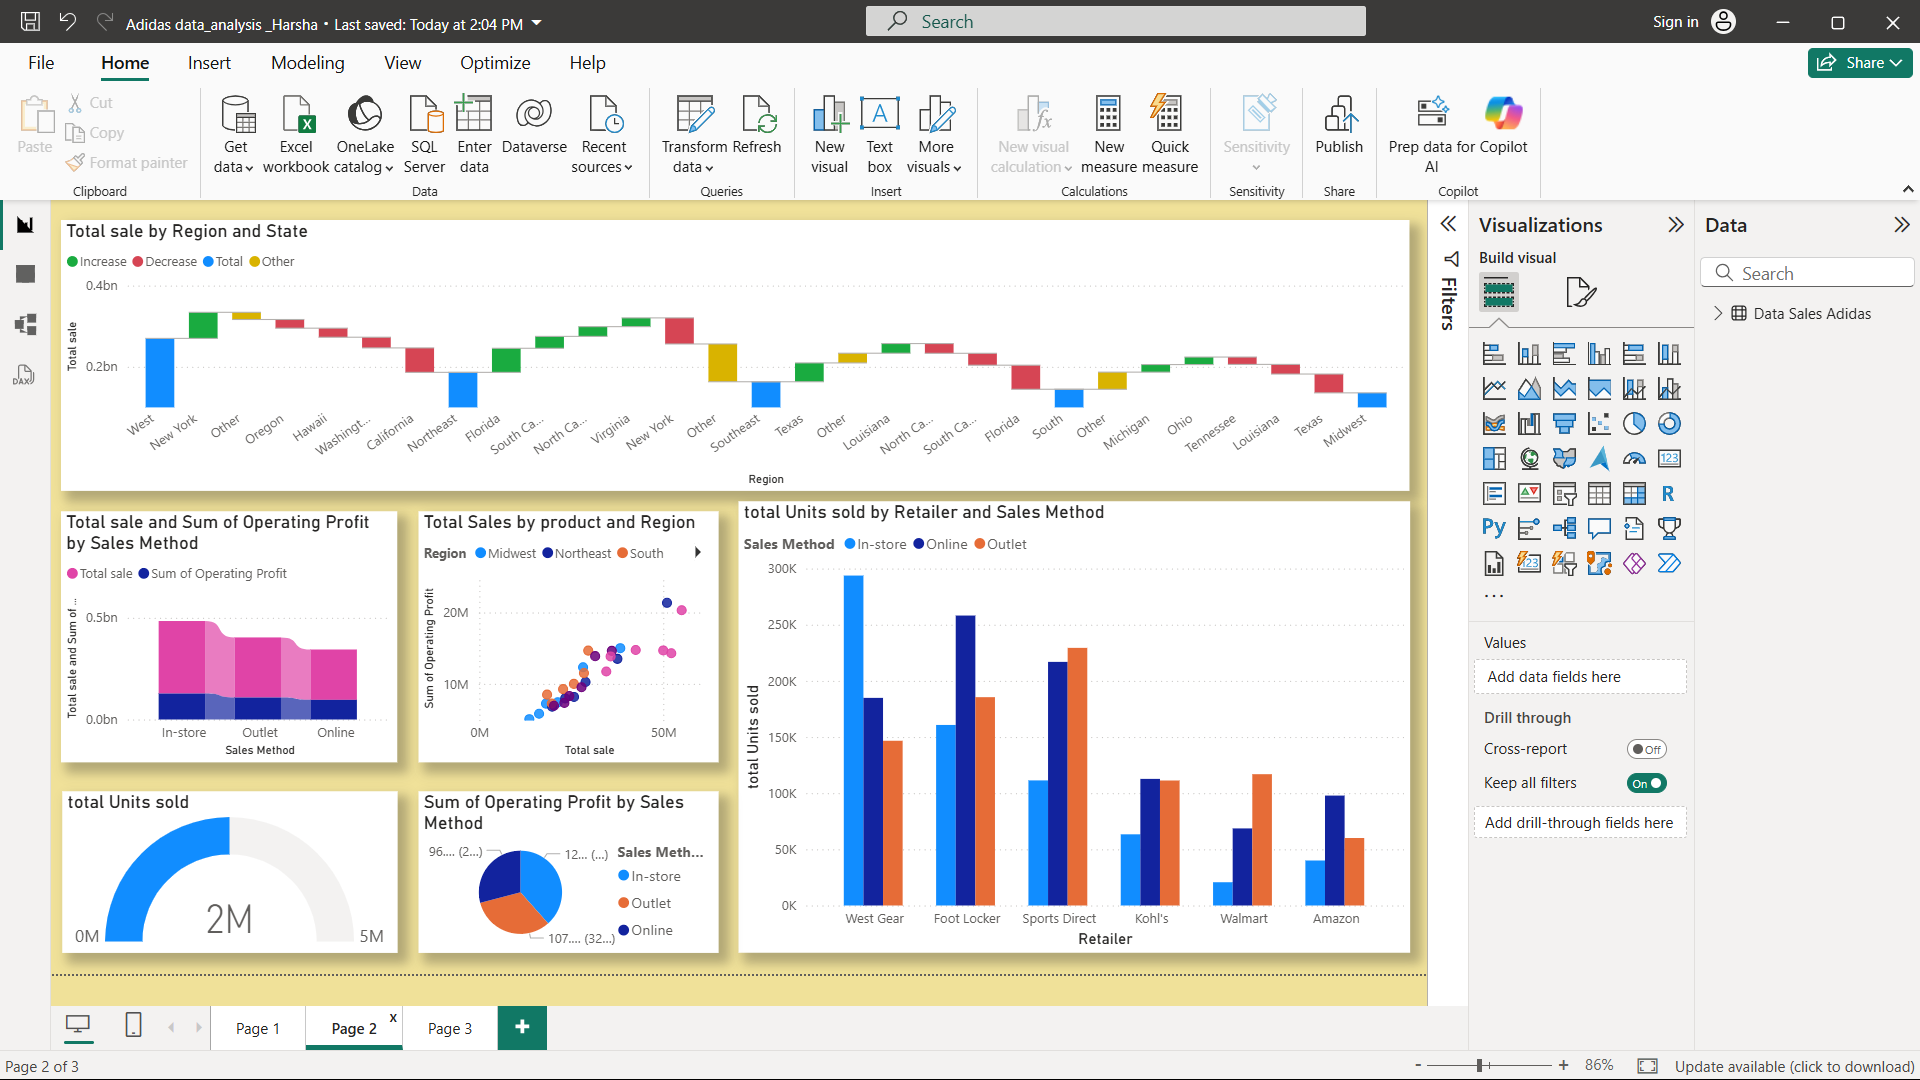

What the dashboard file says about the page in this screenshot:
{"tool":"powerbi","page":{"name":"Page 2","canvas":[1280,720],"ordinal":1},"visuals":[{"type":"waterfallChart","fields":{"Y":["Data Sales Adidas.Total sale"],"Category":["Data Sales Adidas.Region"],"Breakdown":["Data Sales Adidas.State"]},"box":[9.3,18.6,1254.7,252.3],"z":0},{"type":"ribbonChart","fields":{"Category":["Data Sales Adidas.Sales Method"],"Y":["Data Sales Adidas.Total sale","Sum(Data Sales Adidas.Operating Profit)"]},"box":[9.3,289.5,312.8,233.7],"z":1000},{"type":"gauge","fields":{"Y":["Data Sales Adidas.total Units sold"]},"box":[10.5,550,311.6,150],"z":2000},{"type":"scatterChart","title":"Total Sales by product and Region","fields":{"Category":["Data Sales Adidas.Product"],"Y":["Sum(Data Sales Adidas.Operating Profit)"],"Series":["Data Sales Adidas.Region"],"X":["Data Sales Adidas.Total sale"]},"box":[341.9,289.5,279.1,233.7],"z":3000},{"type":"lineClusteredColumnComboChart","fields":{"Y":["Data Sales Adidas.total Units sold"],"Category":["Data Sales Adidas.Retailer"],"Series":["Data Sales Adidas.Sales Method"]},"box":[639.5,280.2,624.4,419.8],"z":4000},{"type":"pieChart","fields":{"Category":["Data Sales Adidas.Sales Method"],"Y":["Sum(Data Sales Adidas.Operating Profit)"]},"box":[341.9,550,279.1,150],"z":5000}]}

Visuals, with their boxes on the page's 1280x720 design canvas (x1, y1, x2, y2). These are canvas units, not pixel positions in the 1920x1080 screenshot, which may show the page scaled, cropped or inside an application window:
waterfallChart - Data Sales Adidas.Total sale x Data Sales Adidas.Region: {"left": 9, "top": 19, "right": 1264, "bottom": 271}
ribbonChart - Data Sales Adidas.Sales Method x Data Sales Adidas.Total sale: {"left": 9, "top": 290, "right": 322, "bottom": 523}
gauge - Data Sales Adidas.total Units sold: {"left": 10, "top": 550, "right": 322, "bottom": 700}
"Total Sales by product and Region" scatterChart: {"left": 342, "top": 290, "right": 621, "bottom": 523}
lineClusteredColumnComboChart - Data Sales Adidas.total Units sold x Data Sales Adidas.Retailer: {"left": 640, "top": 280, "right": 1264, "bottom": 700}
pieChart - Data Sales Adidas.Sales Method x Sum(Data Sales Adidas.Operating Profit): {"left": 342, "top": 550, "right": 621, "bottom": 700}
